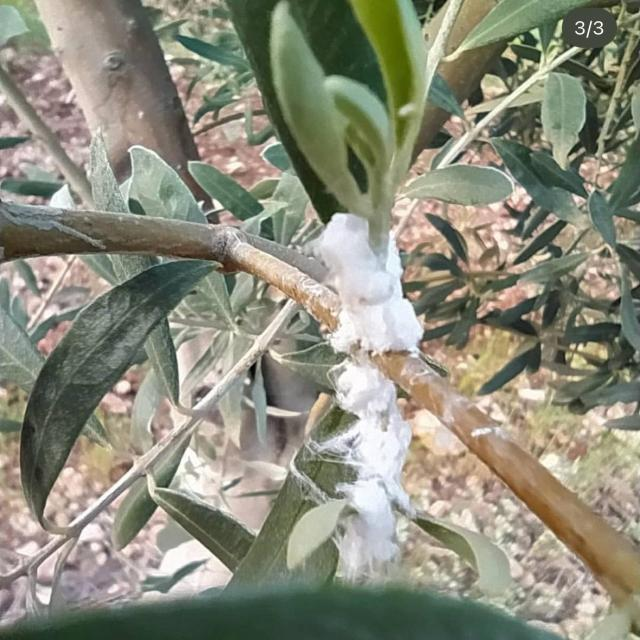Psyllid: (302, 359, 424, 582), (306, 214, 424, 354)
